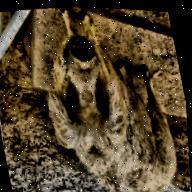boar: (12, 10, 192, 192)
